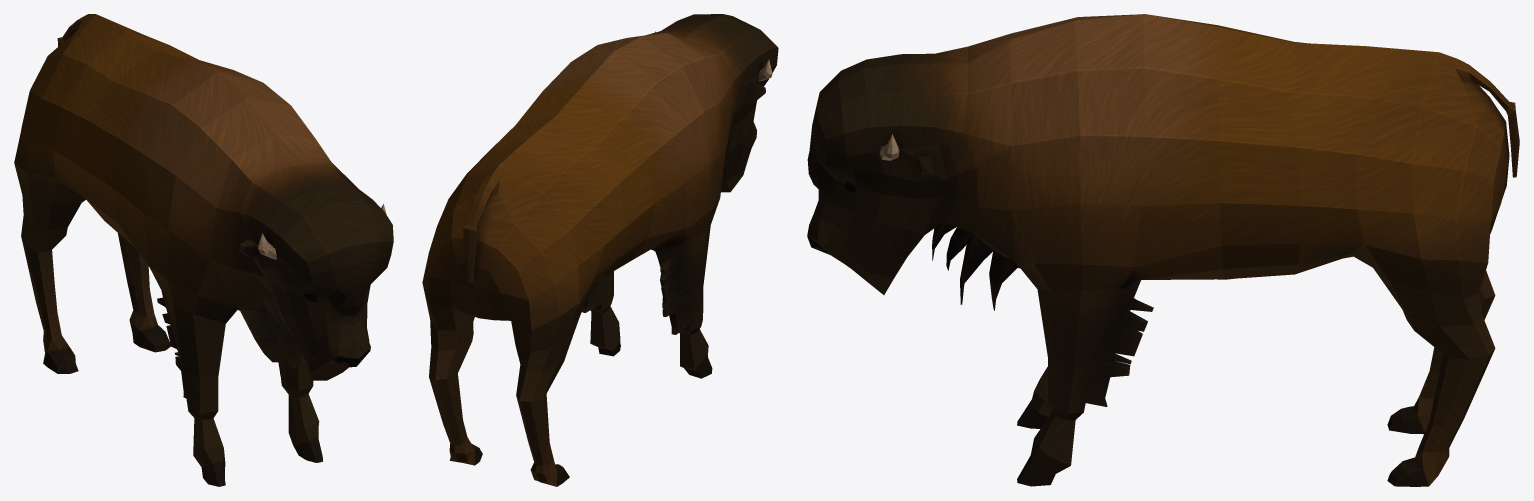
Rendered from BisonPlains.obj.
The picture shows the model from 3 angles, left to right: view 1: azimuth 30°, elevation 25°; view 2: azimuth 150°, elevation 25°; view 3: azimuth 270°, elevation 25°; orthographic projection. The views are drawn at different scales.
Parts seen in each view (by area): view 1: BisonPlains_mesh; view 2: BisonPlains_mesh; view 3: BisonPlains_mesh.
Part boxes in pixels (x1,y1,x2,y2): BisonPlains_mesh: (14,14,393,486); BisonPlains_mesh: (422,14,778,486); BisonPlains_mesh: (807,14,1519,486).
Size of the model in its own units: 6.33 by 14.12 by 20.77.
1 material, 1 textured.
